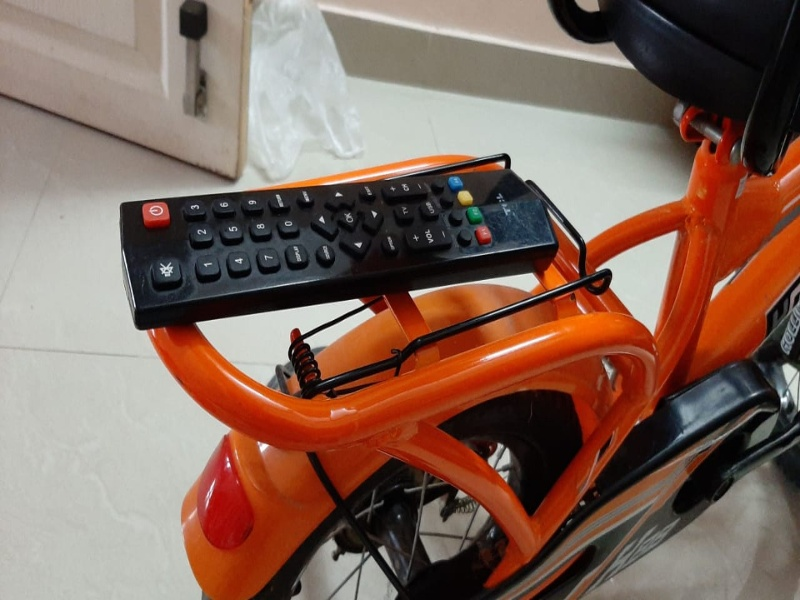remote: (114, 163, 565, 332)
